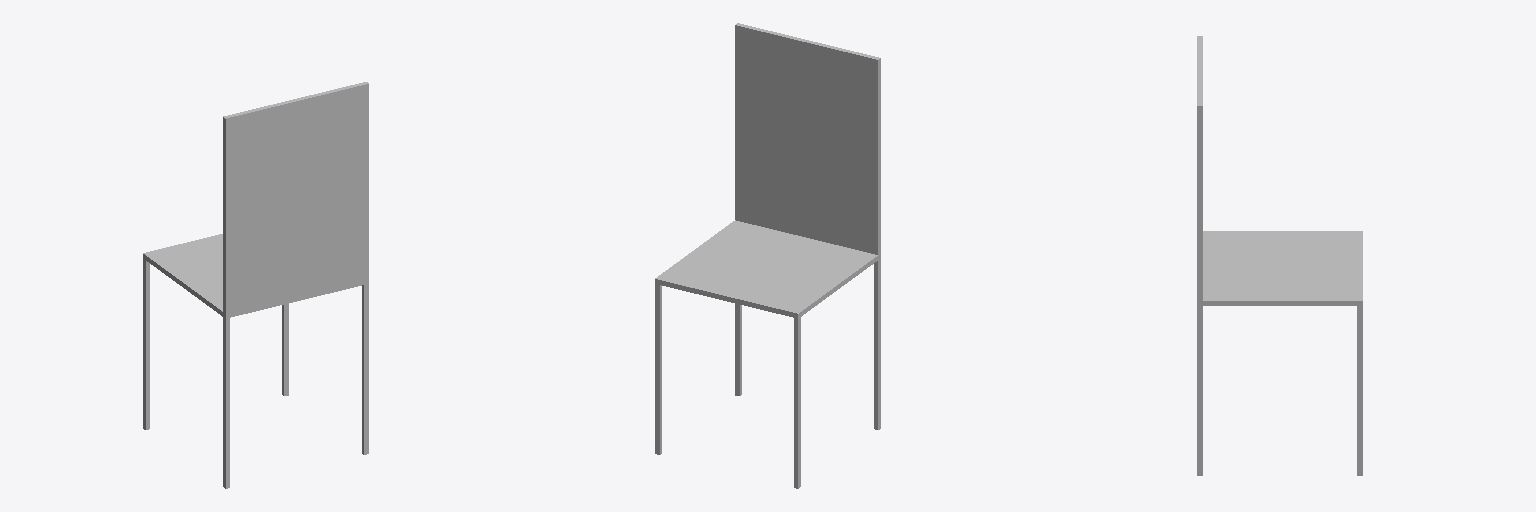
The model's file is Chair.obj.
3 renders of one model, left to right at view 1: azimuth 30°, elevation 25°; view 2: azimuth 150°, elevation 25°; view 3: azimuth 270°, elevation 25°, orthographic.
Visible parts, largest first — view 1: Chair; view 2: Chair; view 3: Chair.
Part boxes in pixels (x1,y1,x2,y2): Chair: (143,82,368,488); Chair: (655,23,880,488); Chair: (1197,36,1362,475).
Size of the model in its own units: 30 by 74 by 30.